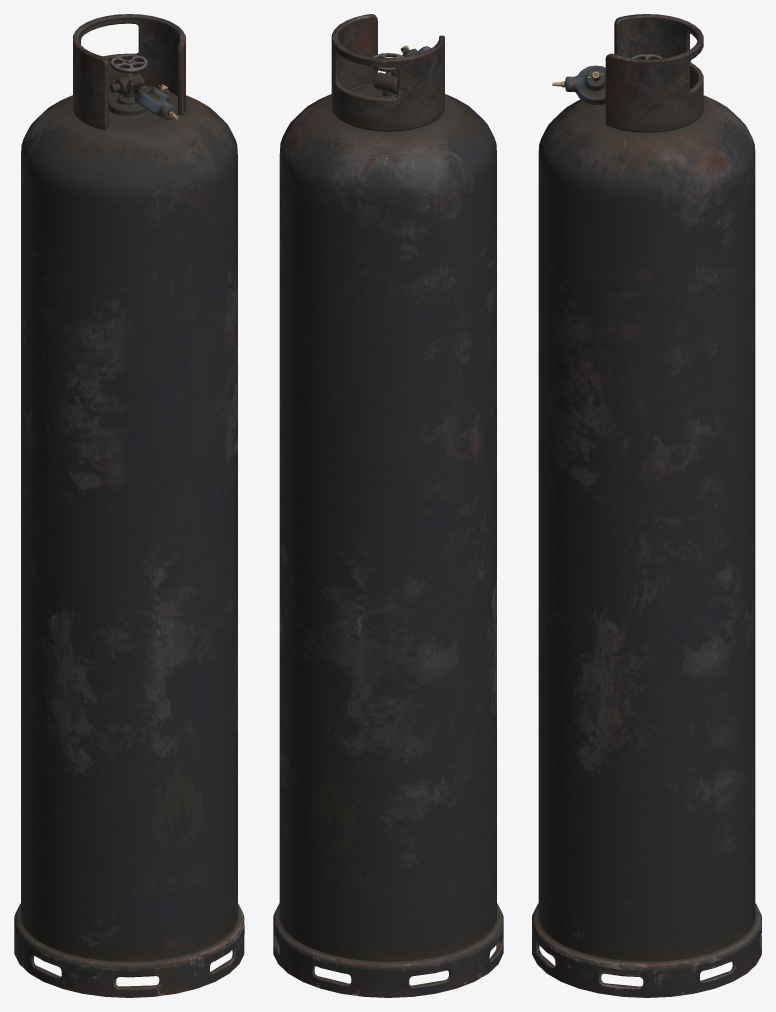
Rendered from gas_cylinder_10_mb.glb.
The picture shows the model from 3 angles, left to right: view 1: azimuth 30°, elevation 25°; view 2: azimuth 150°, elevation 25°; view 3: azimuth 270°, elevation 25°; orthographic projection.
Visible parts, largest first — view 1: Cylinder_3; view 2: Cylinder_3; view 3: Cylinder_3.
Boxes of the visible parts, left/top/right/bottom form: Cylinder_3: left=14, top=14, right=244, bottom=997; Cylinder_3: left=273, top=14, right=503, bottom=997; Cylinder_3: left=532, top=14, right=761, bottom=997.
Bounding box in the file's own units: 1 × 4.35 × 0.9945.
1 material, 1 textured.
